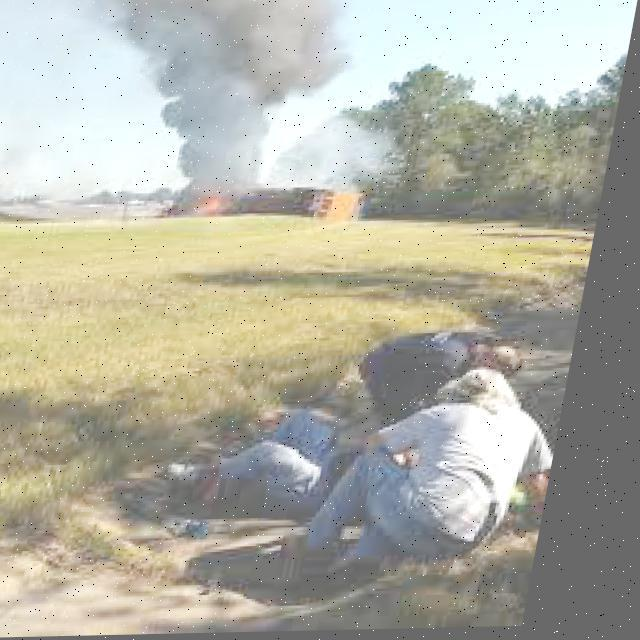Fire: (164, 160, 260, 228)
